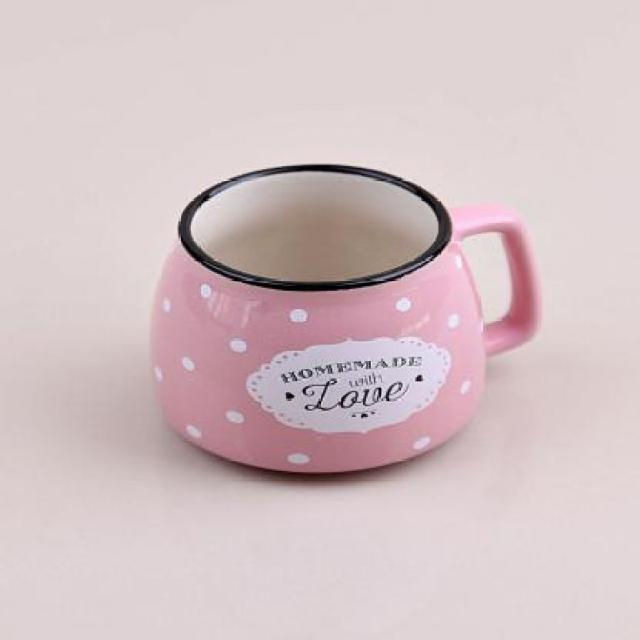taza: (148, 164, 546, 480)
